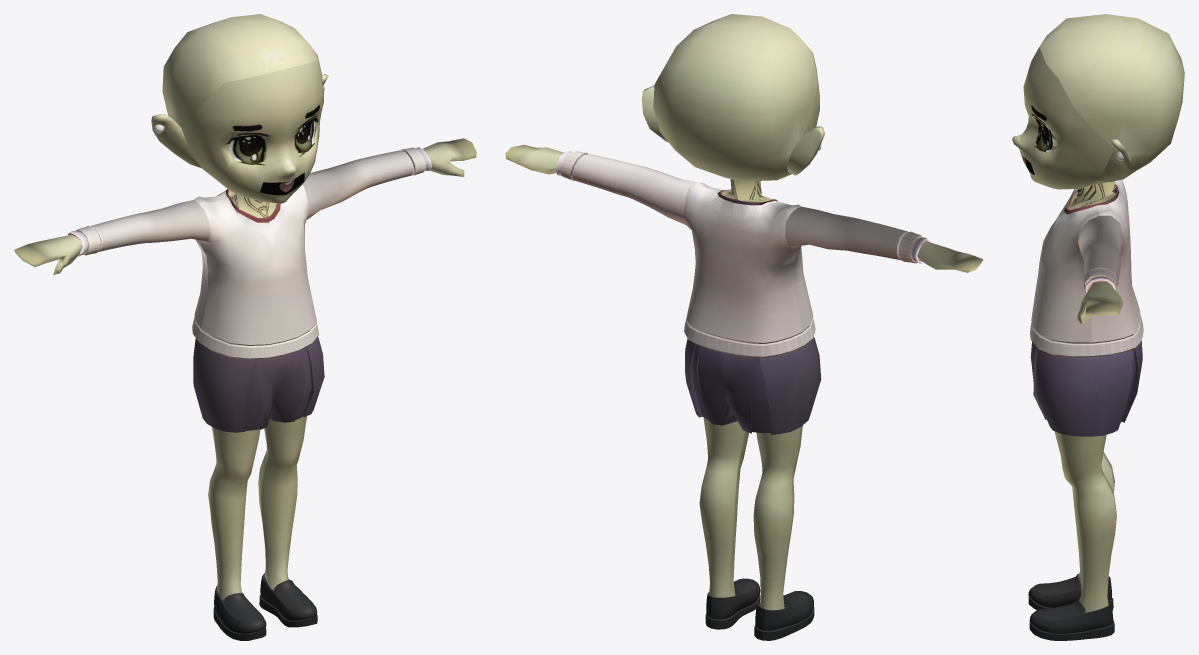
The model's file is tpose-pre-armature-short.fbx.
The picture shows the model from 3 angles, left to right: view 1: azimuth 30°, elevation 25°; view 2: azimuth 150°, elevation 25°; view 3: azimuth 270°, elevation 25°; orthographic projection. The views are drawn at different scales.
Parts seen in each view (by area): view 1: Body_36338, Body_36338.001; view 2: Body_36338; view 3: Body_36338, Body_36338.001.
Part boxes in pixels (x1,y1,x2,y2): Body_36338: [14, 14, 476, 640]; Body_36338.001: [230, 121, 315, 164]; Body_36338: [505, 14, 983, 640]; Body_36338: [1012, 14, 1184, 640]; Body_36338.001: [1036, 121, 1052, 151].
Size of the model in its own units: 133 by 164 by 43.02.
Materials: 2 (2 with a texture image).
